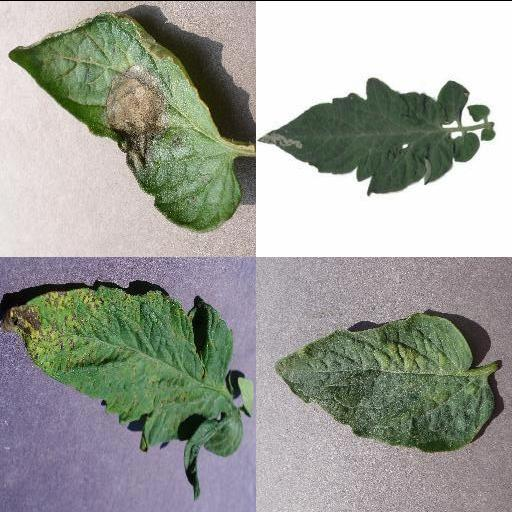Late Blight: (7, 13, 241, 231)
Leaf Miner: (257, 72, 456, 194)
Septoria: (0, 284, 233, 452)
Spider Mites: (274, 312, 496, 452)
